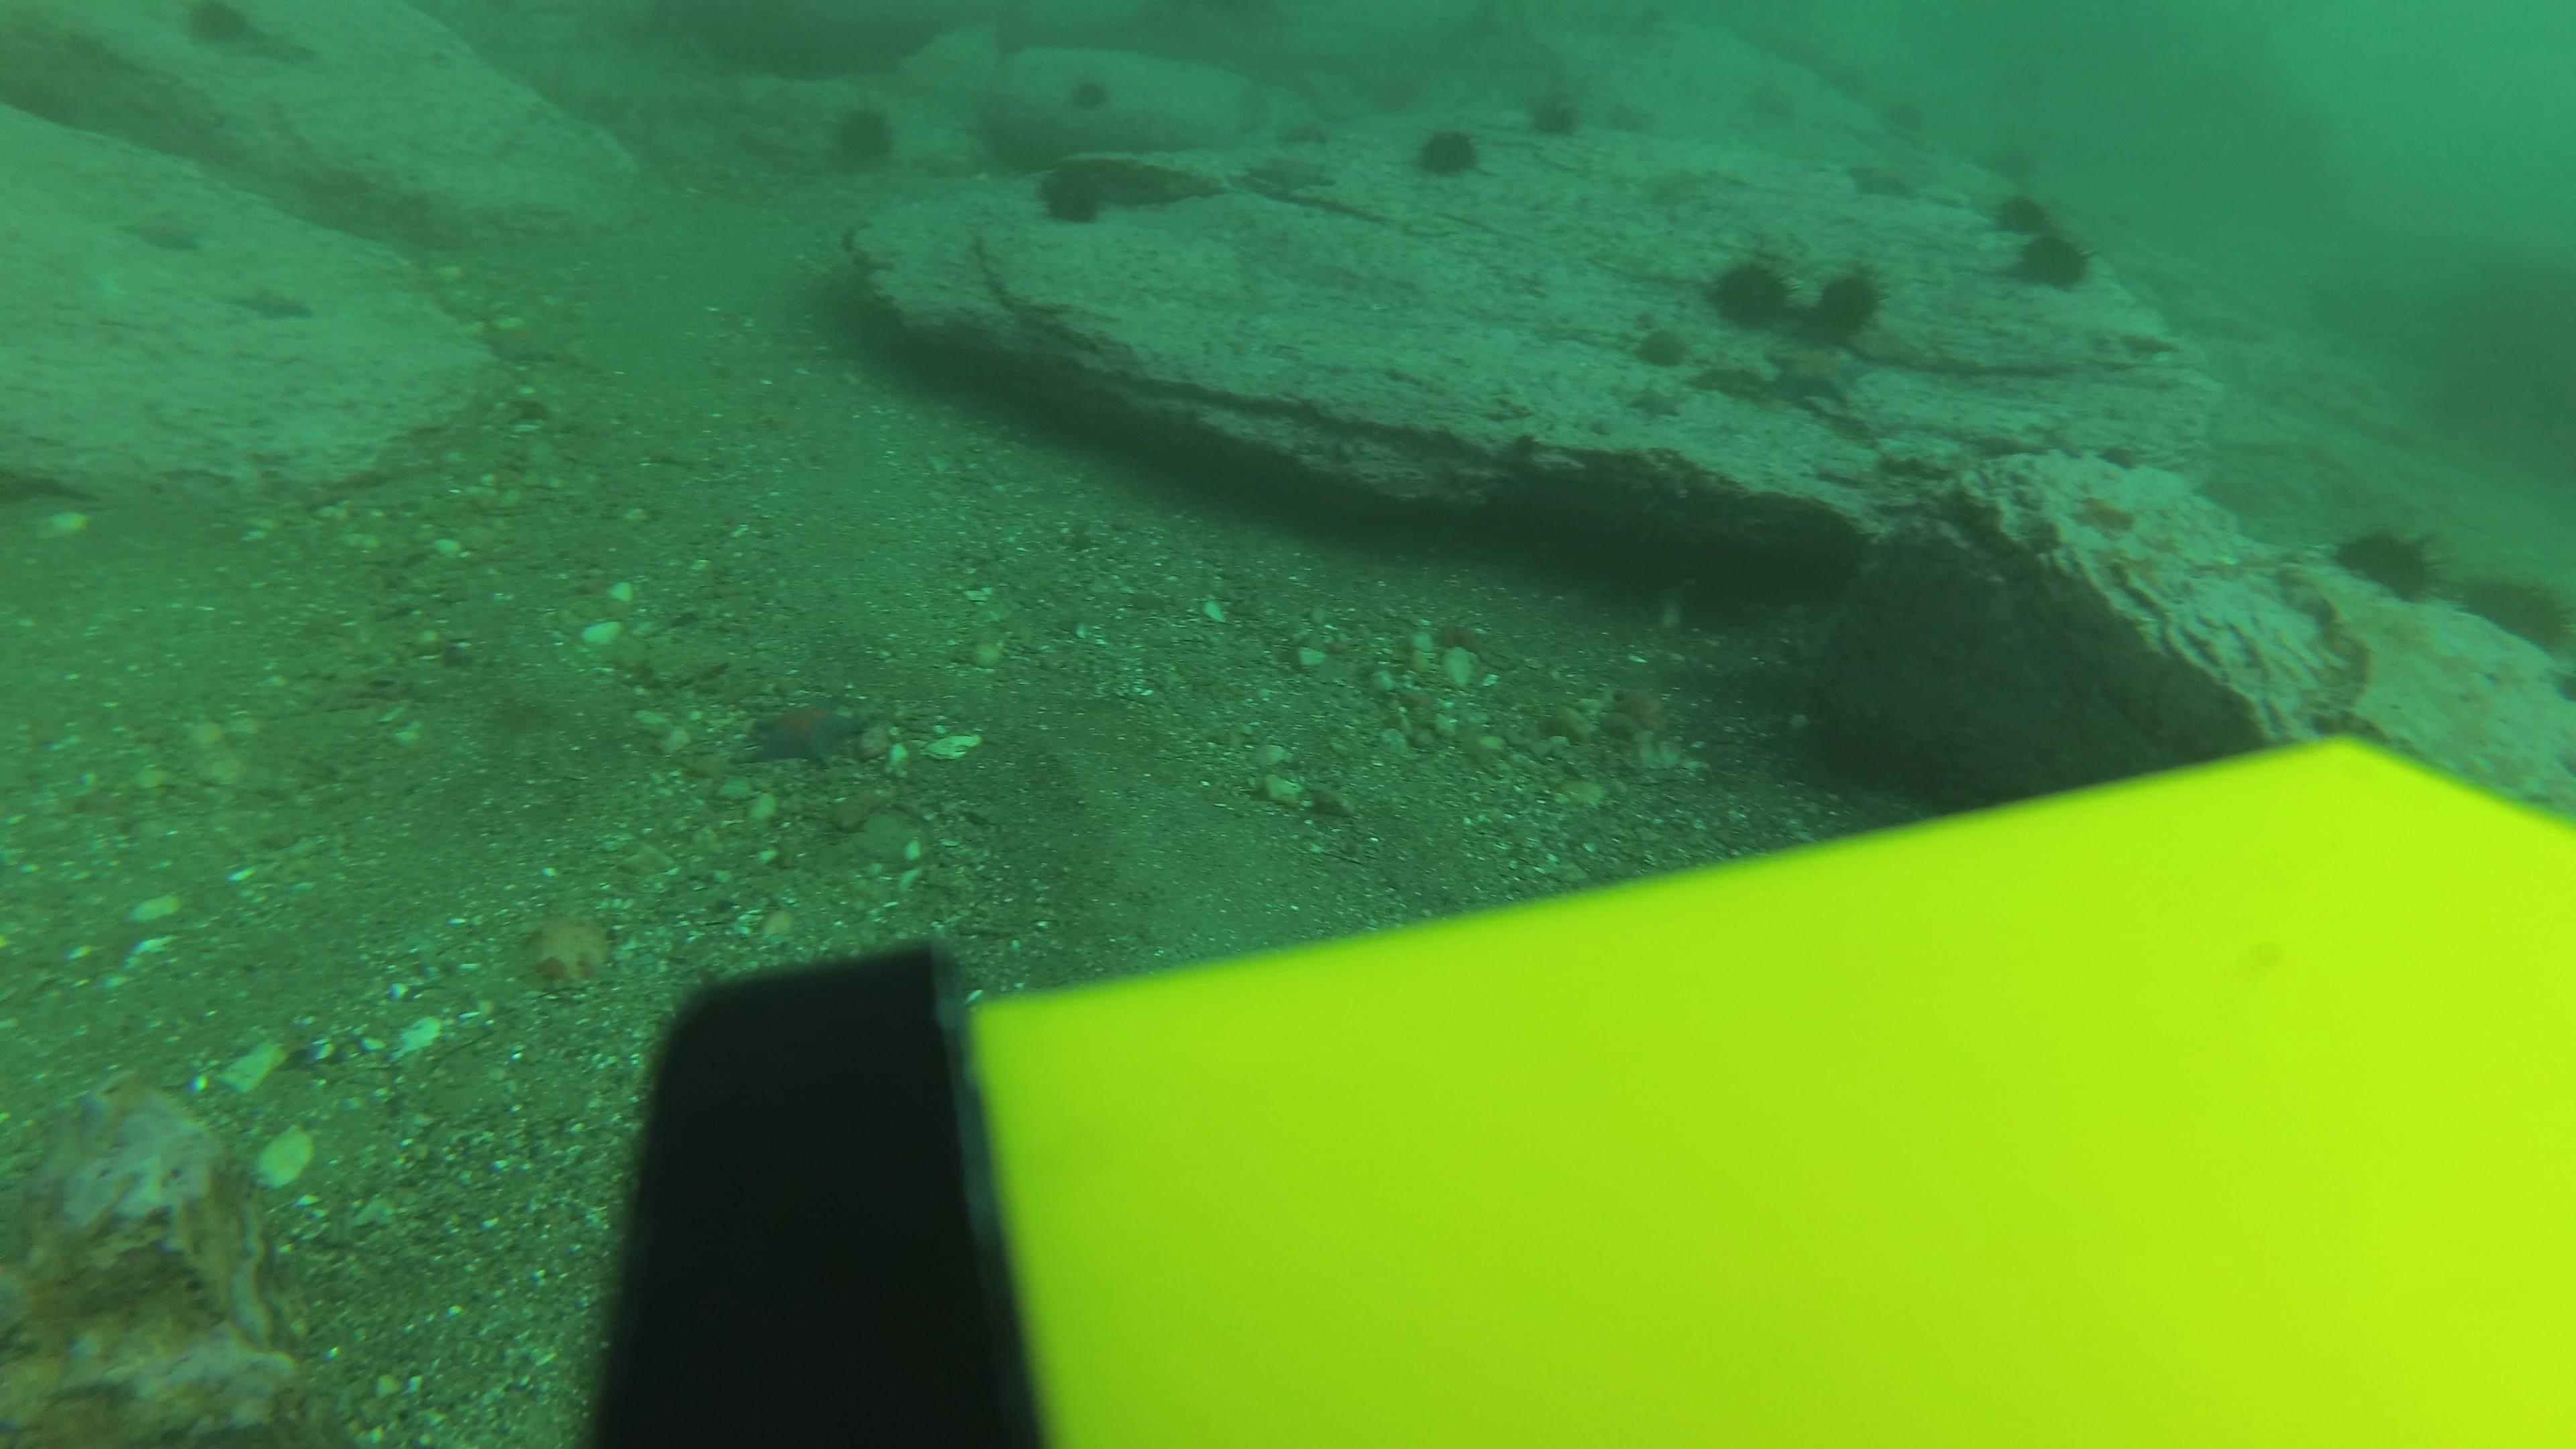echinus: (2454, 561, 2572, 662), (2327, 513, 2445, 605), (1783, 258, 1891, 350), (1700, 246, 1806, 336), (819, 97, 906, 177), (2006, 235, 2102, 303), (1030, 157, 1115, 232), (1405, 117, 1491, 186), (1520, 81, 1589, 145), (1882, 92, 1946, 140), (1819, 58, 1882, 106), (1591, 85, 1654, 133), (1989, 195, 2051, 242), (1992, 136, 2054, 184), (1734, 81, 1798, 127), (1058, 69, 1113, 119)
starfish: (738, 692, 872, 771), (1760, 341, 1875, 412), (476, 310, 586, 372), (1237, 147, 1341, 203), (214, 274, 320, 326), (1840, 154, 1925, 205), (1621, 380, 1686, 425)
